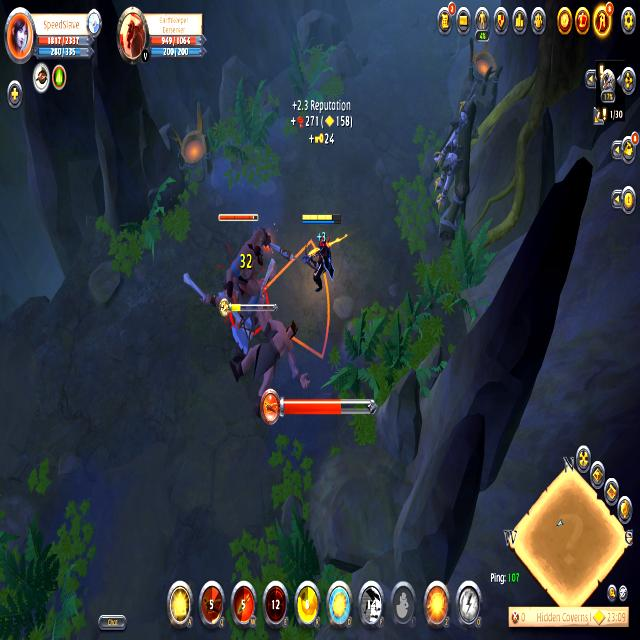ore: (206, 200, 276, 350)
red: (296, 210, 342, 304)
silver: (263, 243, 329, 360)
